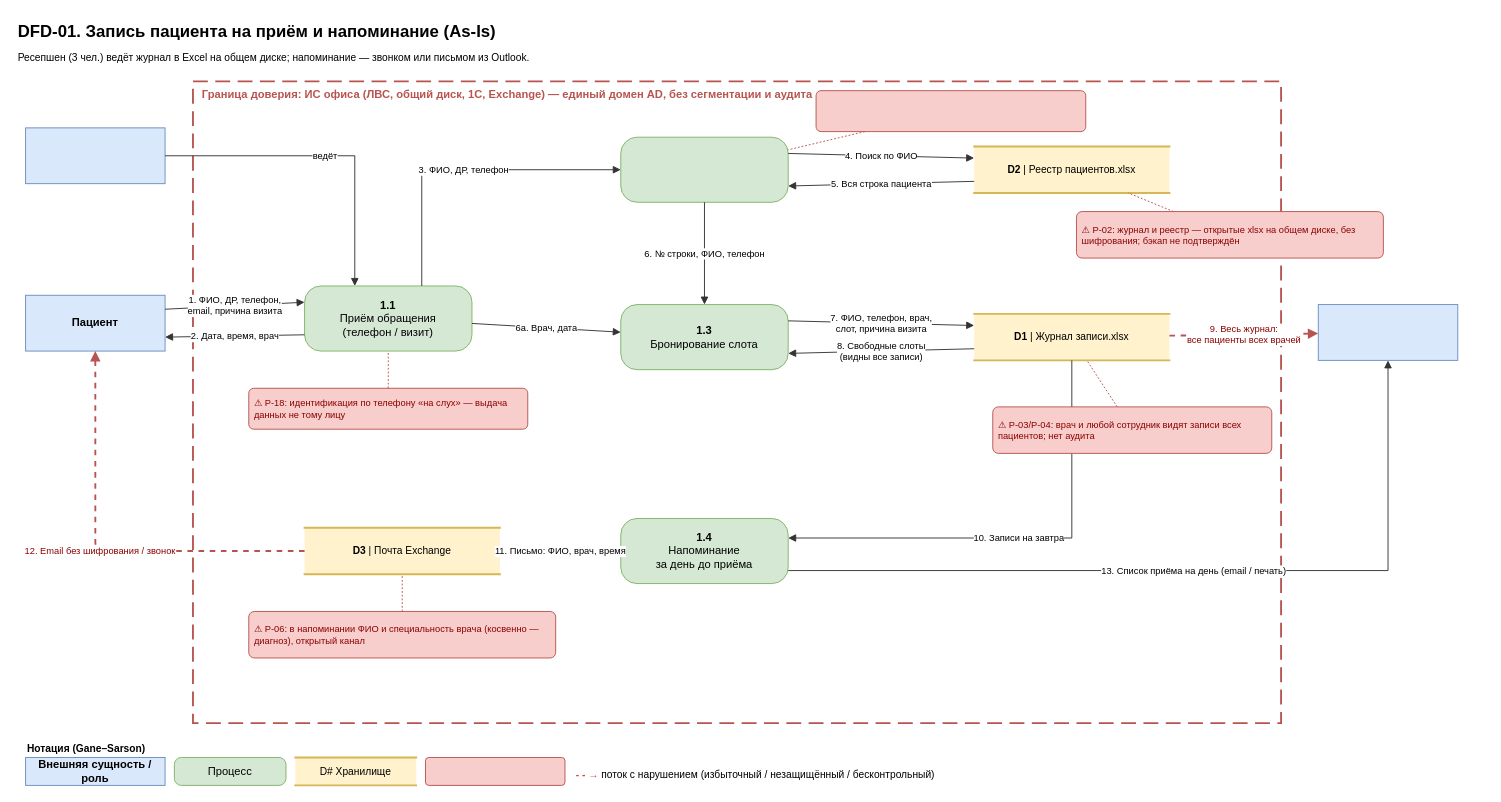
Some shapes in this 1501 by 802 pixel diagram are drawn without their labels. The shapes that lost their labels are listed below. From the top down, each one's centre as x and y in pixels, then its label:
At (950,111): "⚠ P-07/P-12: дубли пациентов в D1 и D2; сроки хранения не определены".
At (95,155): "Ресепшен".
At (704,169): "1.2 Поиск / регистрация пациента".
At (1387,332): "Медицинский специалист".
At (495,771): "⚠ P-xx — проблема (см. problems.md)".
